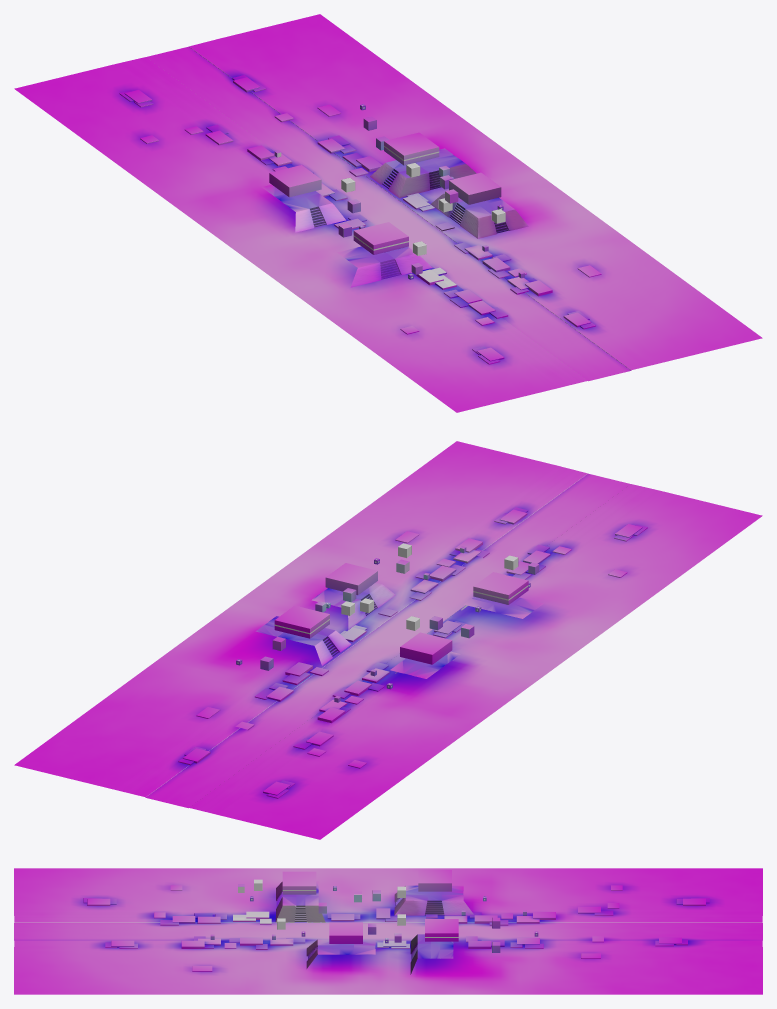
File: hybrid_galaxies.glb
The picture shows the model from 3 angles, top to bottom: view 1: azimuth 30°, elevation 25°; view 2: azimuth 150°, elevation 25°; view 3: azimuth 270°, elevation 25°; orthographic projection. The views are drawn at different scales.
Visible parts, largest first — view 1: ground, floating; view 2: ground, floating; view 3: ground, floating, emissive.
Boxes of the visible parts, x1,y1,x2,y2 form: ground: (14,14,762,412); floating: (274,116,524,278); ground: (14,441,762,839); floating: (260,546,539,702); ground: (14,868,762,994); floating: (210,884,526,952); emissive: (14,880,762,941).
Size of the model in its own units: 32.01 by 4.58 by 80.19.
